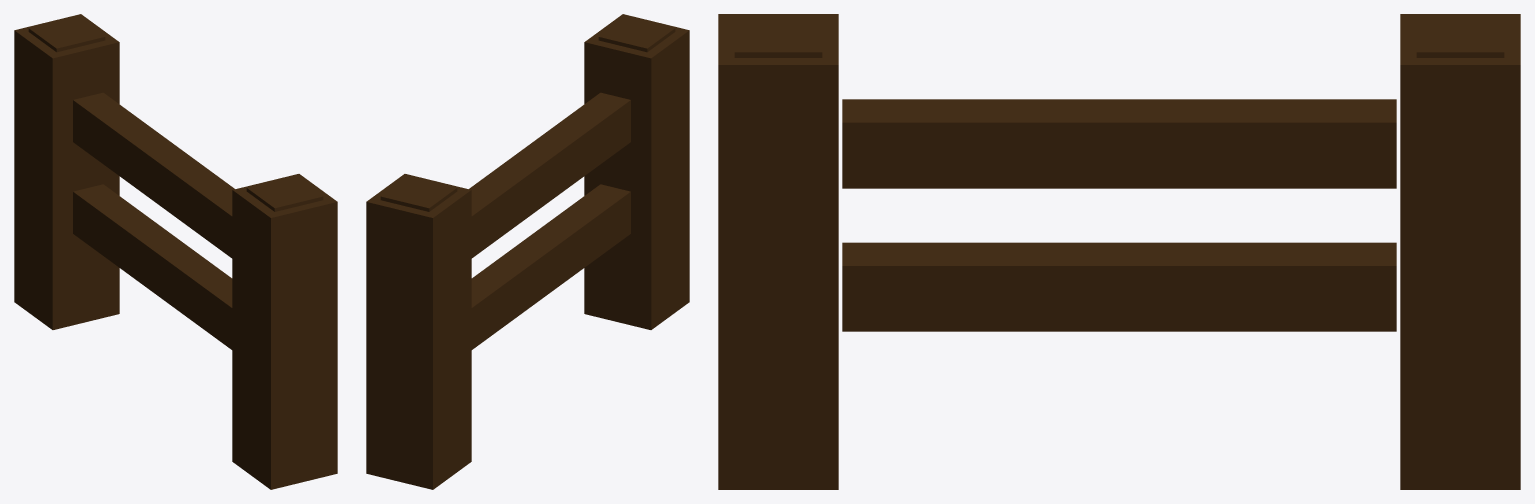
Rendered from Fence_01.fbx.
3 views of the same model, side by side, from view 1: azimuth 30°, elevation 25°; view 2: azimuth 150°, elevation 25°; view 3: azimuth 270°, elevation 25° (orthographic). The views are drawn at different scales.
Visible parts, largest first — view 1: Cube.003; view 2: Cube.003; view 3: Cube.003.
Part boxes in pixels (left/top/right/bottom): Cube.003: left=14, top=14, right=337, bottom=489; Cube.003: left=366, top=14, right=689, bottom=489; Cube.003: left=718, top=14, right=1520, bottom=489.
Size of the model in its own units: 30 by 118 by 200.
